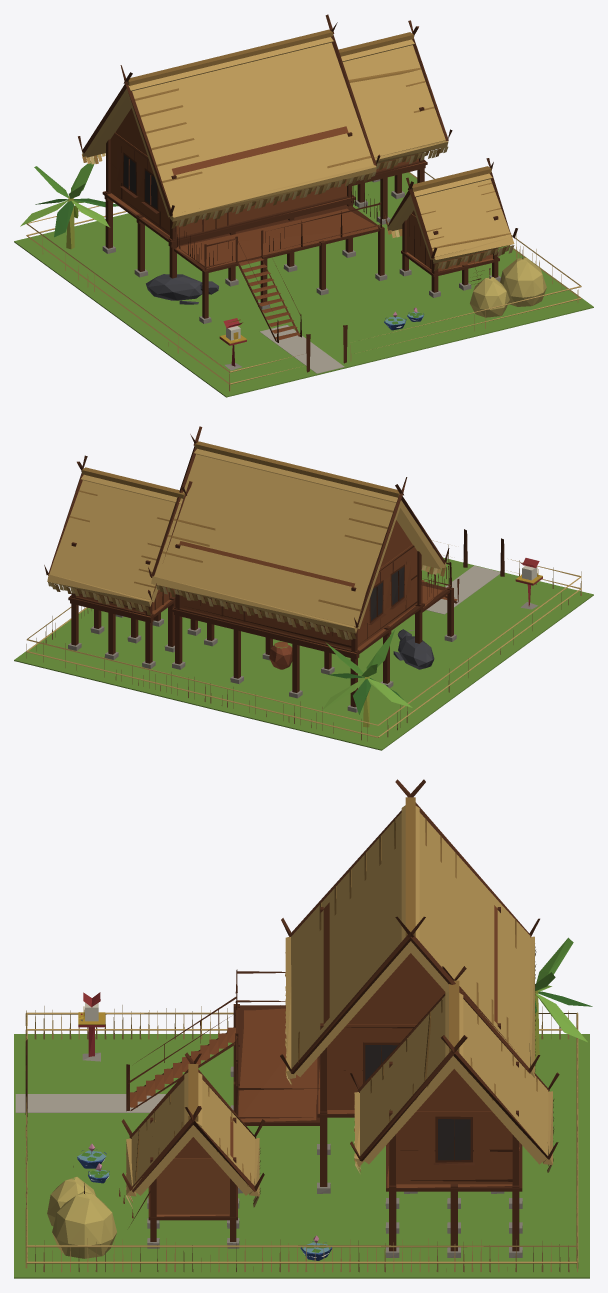
The model's file is home_4.glb.
3 renders of one model, top to bottom at view 1: azimuth 30°, elevation 25°; view 2: azimuth 150°, elevation 25°; view 3: azimuth 270°, elevation 25°, orthographic. The views are drawn at different scales.
Parts seen in each view (by area): view 1: body, windows; view 2: body, windows; view 3: body, windows.
Part boxes in pixels (left/top/right/bottom): body: left=14, top=14, right=593, bottom=397; windows: left=123, top=155, right=157, bottom=208; body: left=14, top=426, right=593, bottom=750; windows: left=370, top=567, right=404, bottom=620; body: left=14, top=779, right=592, bottom=1278; windows: left=365, top=1045, right=470, bottom=1160.
Bounding box in the file's own units: 16.46 × 8.76 × 16.01.
